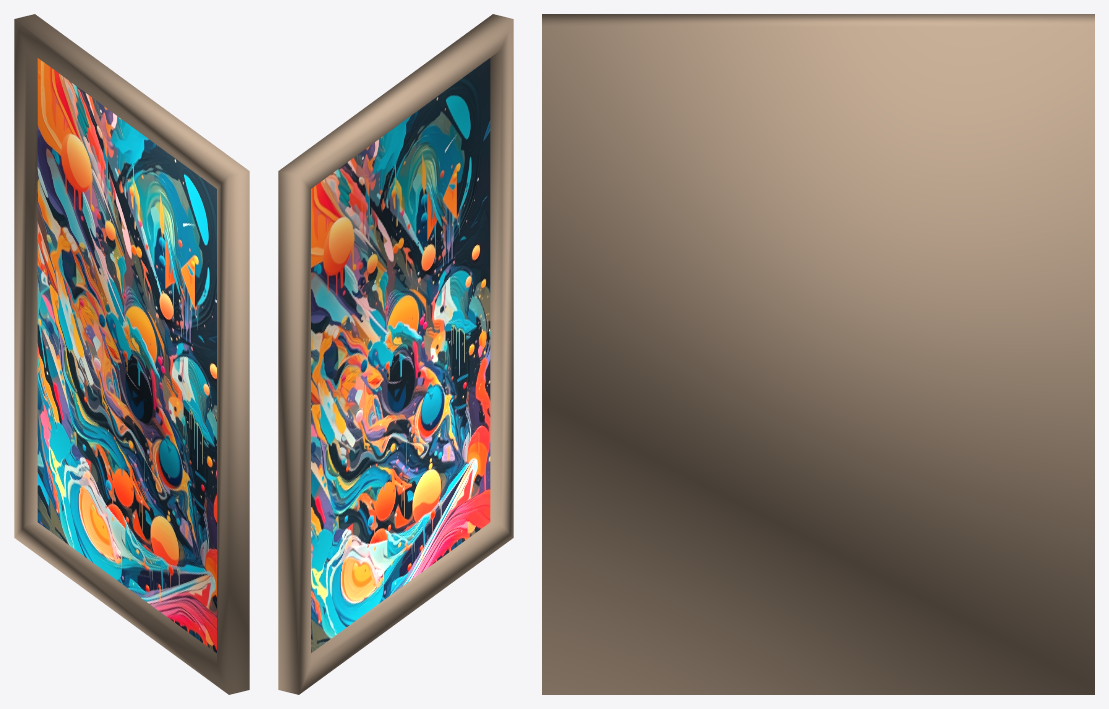
File: DecorD.glb
The picture shows the model from 3 angles, left to right: view 1: azimuth 30°, elevation 25°; view 2: azimuth 150°, elevation 25°; view 3: azimuth 270°, elevation 25°; orthographic projection. The views are drawn at different scales.
Parts seen in each view (by area): view 1: Cube.017; view 2: Cube.017; view 3: Cube.017.
Boxes of the visible parts, box(x1,y1,x2,y2) form: Cube.017: box(14, 14, 249, 694); Cube.017: box(278, 14, 513, 694); Cube.017: box(542, 14, 1094, 694).
Bounding box in the file's own units: 0.1 × 2.4 × 1.8.
2 materials, 1 textured.
